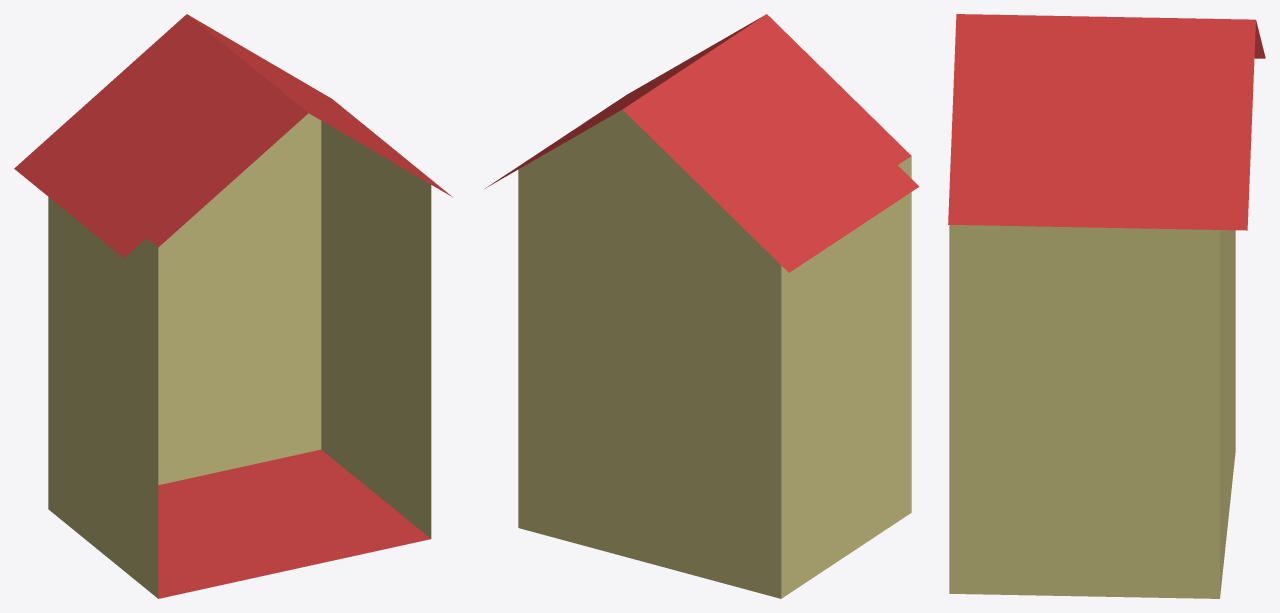
3 renders of one model, left to right at view 1: azimuth 30°, elevation 25°; view 2: azimuth 150°, elevation 25°; view 3: azimuth 270°, elevation 25°, orthographic. The views are drawn at different scales.
Size of the model in its own units: 7.22 by 5.49 by 9.79.
